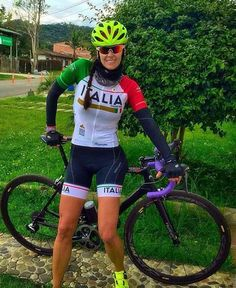helmet: (90, 18, 129, 46)
